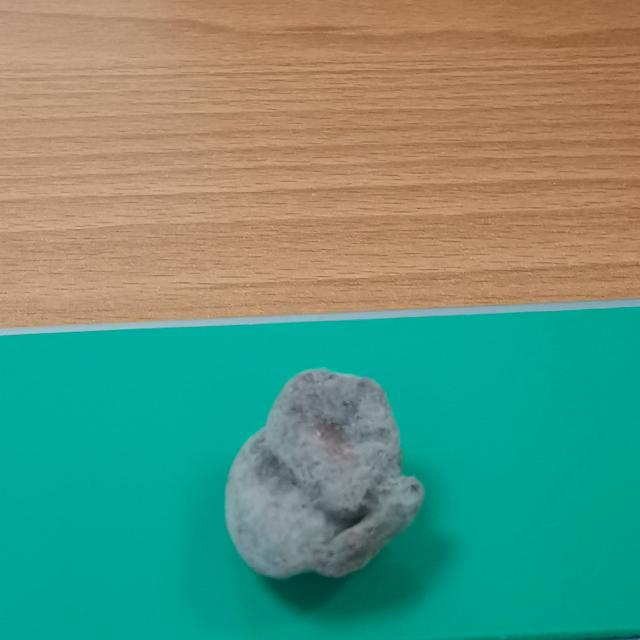Agglomerated_cocoabeans: (191, 354, 522, 633)
